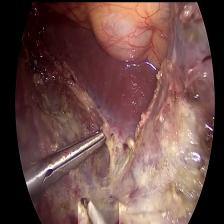Grasper: (42, 118, 106, 194)
Hook: (77, 197, 118, 224)
